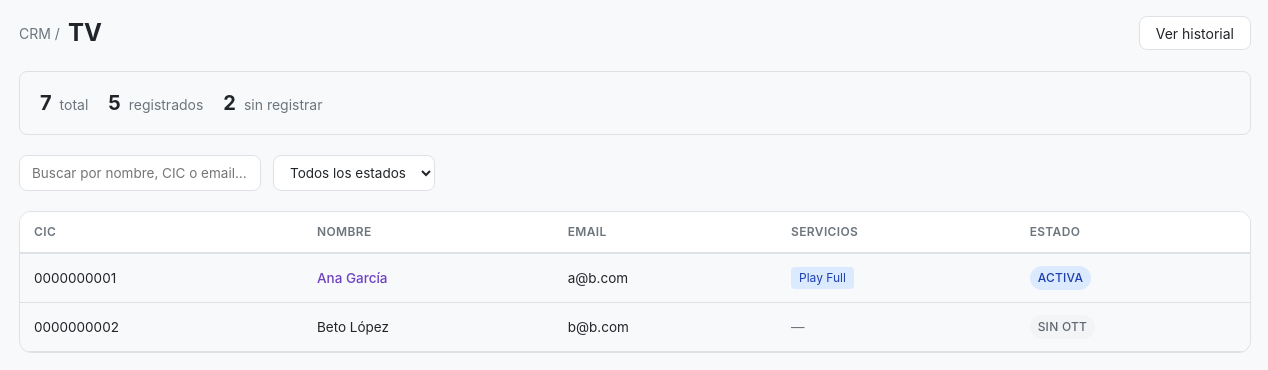
GigaredAccountsPage › filters by NAME substring (case-insensitive) after debounce
In the field with placeholder "Buscar por nombre, CIC o email…": x=140, y=173 [19,155,261,191], type "ana"
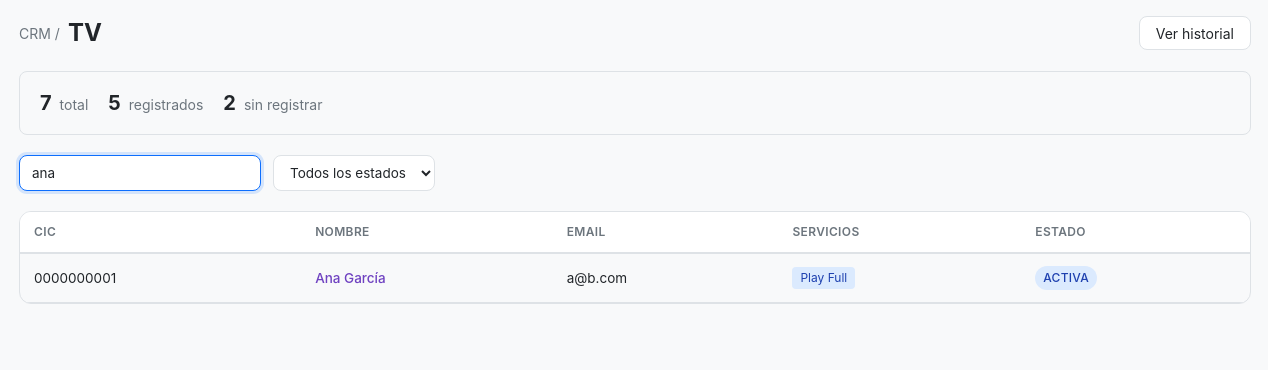
expect the text "0000000001" is shown: met, box [20,253,301,302]
expect the text "0000000002" is gone: met
